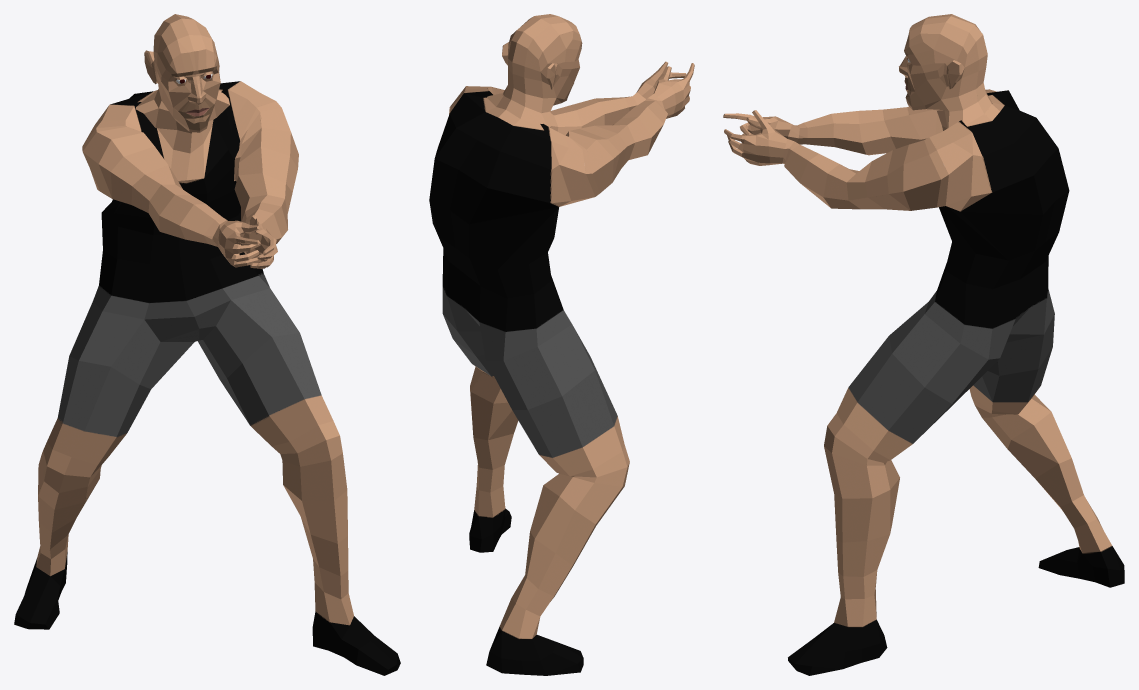
Rendered from PlayerShoot(18).obj.
3 renders of one model, left to right at view 1: azimuth 30°, elevation 25°; view 2: azimuth 150°, elevation 25°; view 3: azimuth 270°, elevation 25°, orthographic. The views are drawn at different scales.
Parts seen in each view (by area): view 1: Plane002; view 2: Plane002; view 3: Plane002.
Boxes of the visible parts, x1=… form: Plane002: x1=14, y1=14, x2=400, y2=675; Plane002: x1=429, y1=14, x2=694, y2=675; Plane002: x1=723, y1=14, x2=1124, y2=675.
Bounding box in the file's own units: 719 × 1667 × 1022.
